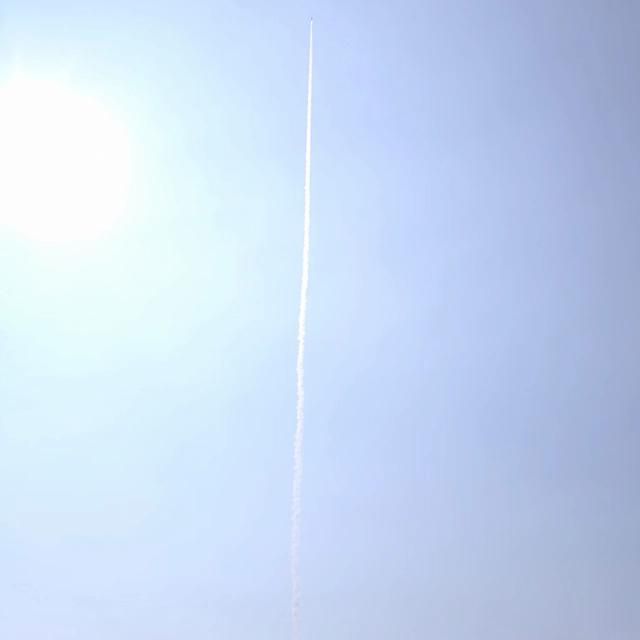smoke_trail_with_rocket: (290, 22, 312, 640)
